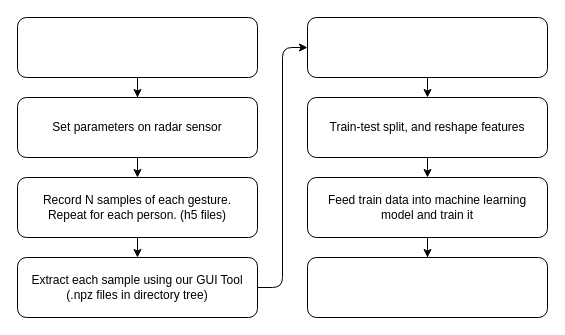
Image size: 565x335. Some labels were removed from this diagram. Here are the shapes that lost their labels. From the top down, the centre of each, then its label:
At [137,47]: "Determine gestures to be recorded, demo to each team member".
At [427,47]: "Feature Transformer (Magnitude/STFT/MFCC)".
At [427,287]: "Save model, check accuracy and AUC".
